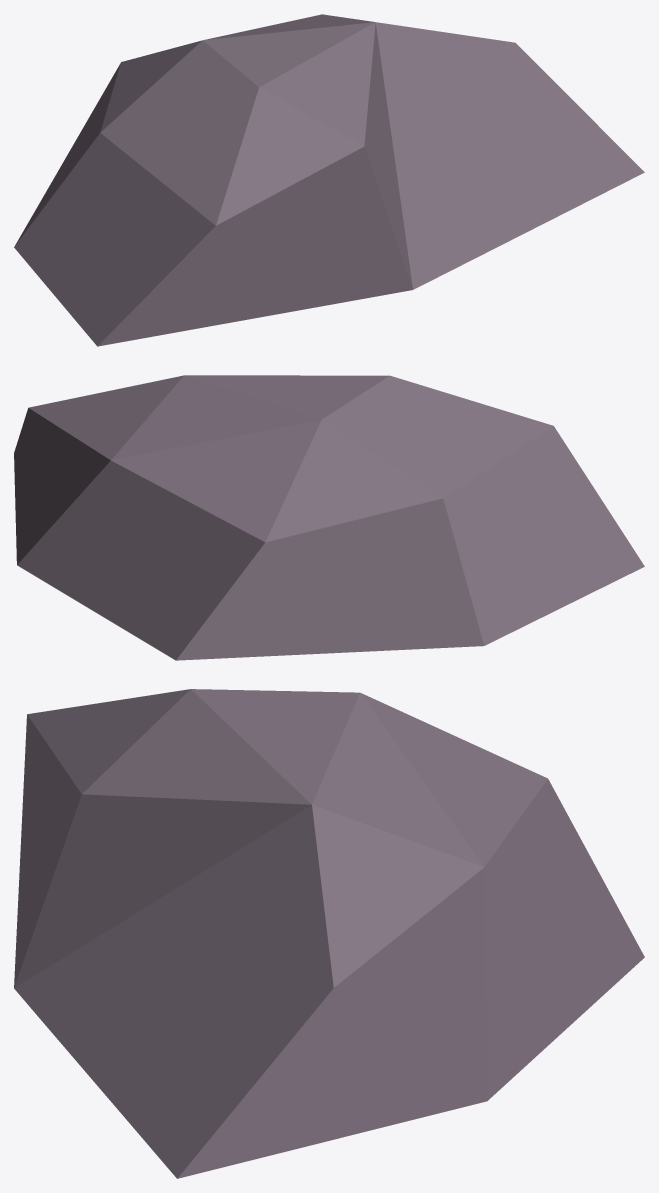
File: Small_stone_v14.fbx
3 views of the same model, one above another, from view 1: azimuth 30°, elevation 25°; view 2: azimuth 150°, elevation 25°; view 3: azimuth 270°, elevation 25° (orthographic). The views are drawn at different scales.
Visible parts, largest first — view 1: Small_stone_v14; view 2: Small_stone_v14; view 3: Small_stone_v14.
Boxes of the visible parts, x1=… form: Small_stone_v14: x1=14, y1=14, x2=644, y2=346; Small_stone_v14: x1=14, y1=375, x2=644, y2=660; Small_stone_v14: x1=14, y1=689, x2=644, y2=1178.
Bounding box in the file's own units: 20.15 × 5.78 × 13.74.
1 material, 1 textured.
